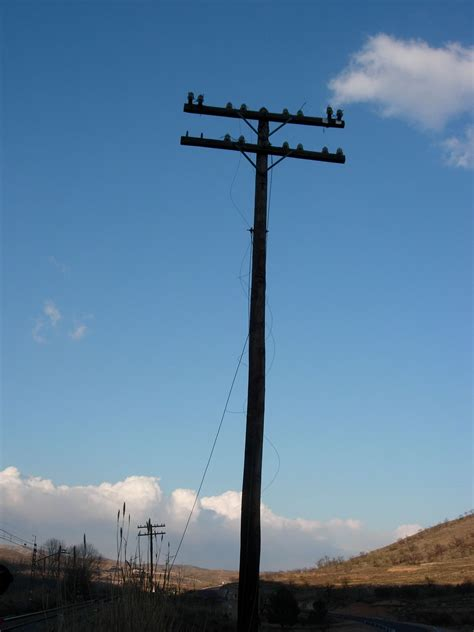pole: (168, 85, 333, 592), (122, 498, 187, 580)
